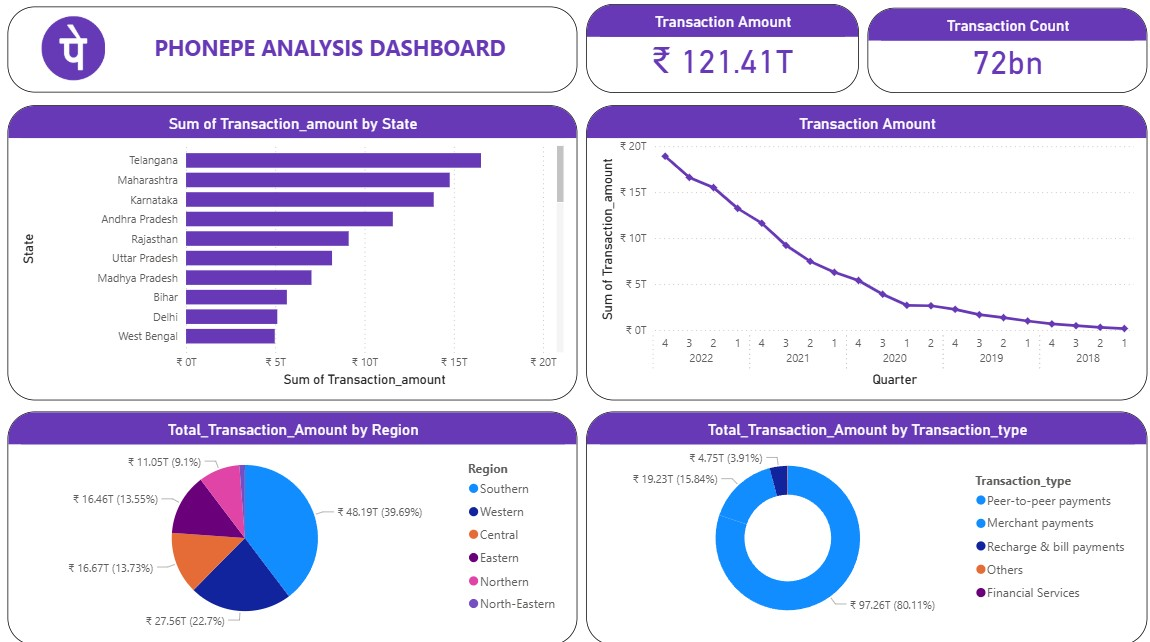

What the dashboard file says about the page in this screenshot:
{"tool":"powerbi","page":{"name":"Page 1","canvas":[1280,720],"ordinal":0},"visuals":[{"type":"card","title":"Transaction Amount","fields":{"Values":["agg_trans (1).Total_Transaction_Amount"]},"box":[649.1,16.5,299.1,97.4],"z":0},{"type":"card","title":"Transaction Count","fields":{"Values":["agg_trans (1).Total_Transaction_Count"]},"box":[957.8,20.6,307.4,93.3],"z":1000},{"type":"barChart","fields":{"Category":["agg_trans (1).State"],"Y":["Sum(agg_trans (1).Transaction_amount)"]},"box":[13.7,127.6,625.7,323.8],"z":2000},{"type":"pieChart","fields":{"Category":["agg_trans (1).Region"],"Y":["agg_trans (1).Total_Transaction_Amount"]},"box":[13.7,463.8,625.7,256.6],"z":3000},{"type":"lineChart","title":"Transaction Amount ","fields":{"Category":["agg_trans (1).Year","agg_trans (1).Quarter"],"Y":["Sum(agg_trans (1).Transaction_amount)"]},"box":[649.1,127.6,616.1,323.8],"z":4000},{"type":"donutChart","fields":{"Category":["agg_trans (1).Transaction_type"],"Y":["agg_trans (1).Total_Transaction_Amount"]},"box":[649.1,463.8,616.1,256.6],"z":5000},{"type":"shape","box":[13.7,19.2,625.7,94.7],"z":8000},{"type":"image","box":[26.1,20.6,120.8,89.2],"z":8500},{"type":"textbox","box":[120.8,26.1,494,82.3],"z":9000}]}

Visuals, with their boxes in screenshot pixels (x1, y1, x2, y2), scaled from the page's 1280x720 canvas onto the 1150x642 screenshot:
"Transaction Amount" card: <box>583,15,852,102</box>
"Transaction Count" card: <box>861,18,1137,102</box>
barChart - agg_trans (1).State x Sum(agg_trans (1).Transaction_amount): <box>12,114,574,402</box>
pieChart - agg_trans (1).Region x agg_trans (1).Total_Transaction_Amount: <box>12,414,574,641</box>
"Transaction Amount " lineChart: <box>583,114,1137,402</box>
donutChart - agg_trans (1).Transaction_type x agg_trans (1).Total_Transaction_Amount: <box>583,414,1137,641</box>
shape: <box>12,17,574,102</box>
image: <box>23,18,132,98</box>
textbox: <box>109,23,552,97</box>
